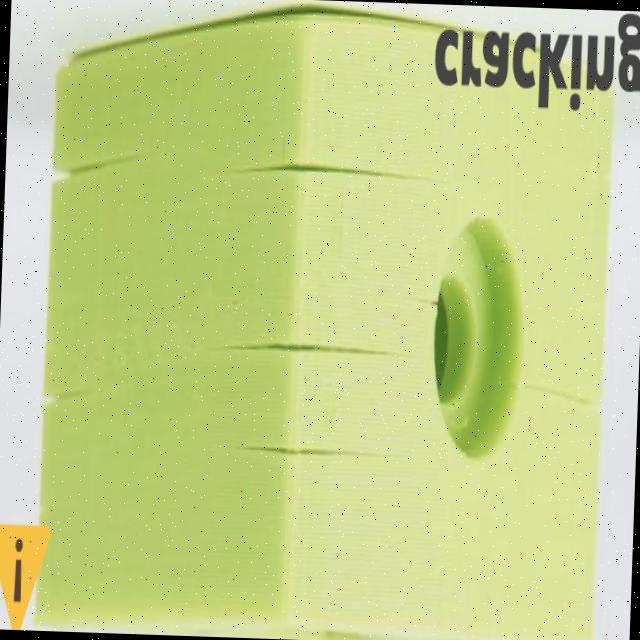cracks: (208, 126, 442, 212), (209, 313, 416, 387), (24, 119, 169, 213), (210, 416, 404, 486), (511, 348, 624, 434), (20, 351, 120, 436), (386, 278, 454, 327)
